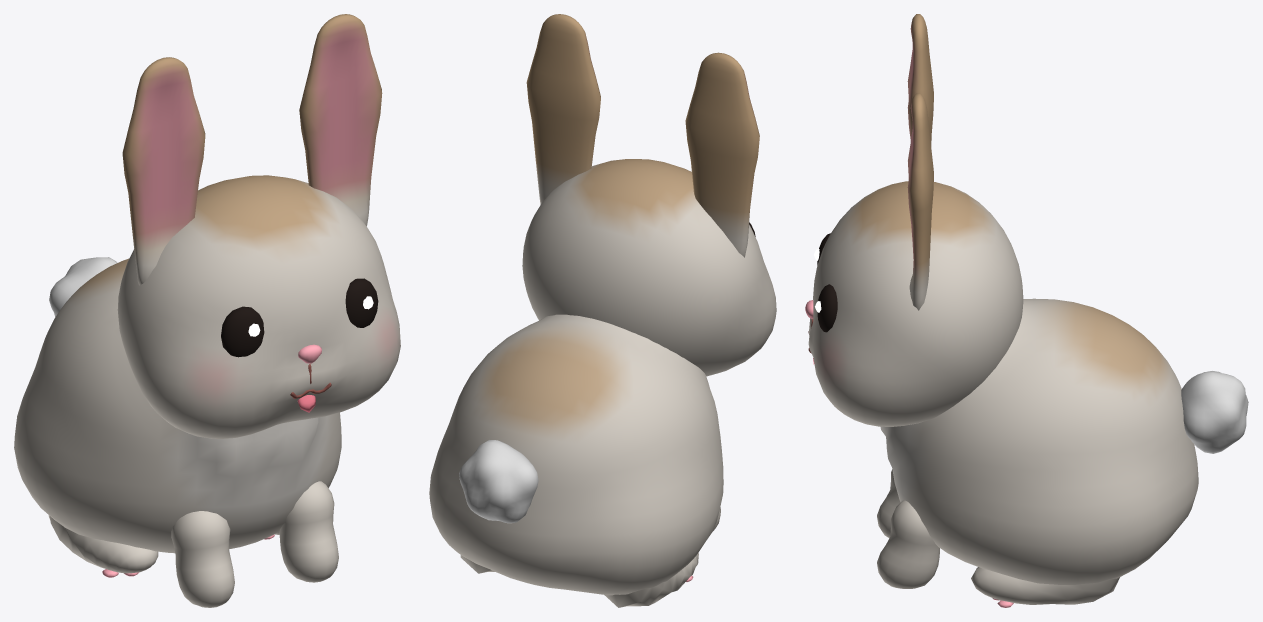
File: pet_bunny.glb
3 renders of one model, left to right at view 1: azimuth 30°, elevation 25°; view 2: azimuth 150°, elevation 25°; view 3: azimuth 270°, elevation 25°, orthographic. The views are drawn at different scales.
Visible parts, largest first — view 1: skull, torso, ear_0_mesh, ear_1_mesh, leg_1_mesh, leg_0_mesh, leg_3_mesh, eye_0_ball, tail_mesh, eye_1_ball; view 2: torso, skull, ear_0_mesh, ear_1_mesh, tail_mesh, leg_3_mesh; view 3: torso, skull, tail_mesh, ear_1_mesh, leg_0_mesh, leg_2_mesh, ear_0_mesh, eye_1_ball, leg_1_mesh.
Boxes of the visible parts, left/top/right/bottom form: skull: left=117, top=175, right=400, bottom=438; torso: left=14, top=258, right=341, bottom=553; ear_0_mesh: left=122, top=57, right=205, bottom=285; ear_1_mesh: left=299, top=14, right=382, bottom=226; leg_1_mesh: left=171, top=511, right=234, bottom=607; leg_0_mesh: left=279, top=481, right=338, bottom=582; leg_3_mesh: left=48, top=515, right=158, bottom=573; eye_0_ball: left=221, top=306, right=264, bottom=357; tail_mesh: left=49, top=257, right=117, bottom=316; eye_1_ball: left=345, top=278, right=378, bottom=327; torso: left=429, top=314, right=723, bottom=595; skull: left=522, top=159, right=776, bottom=376; ear_0_mesh: left=685, top=52, right=759, bottom=257; ear_1_mesh: left=526, top=14, right=600, bottom=204; tail_mesh: left=459, top=440, right=538, bottom=523; leg_3_mesh: left=604, top=553, right=698, bottom=607; torso: left=880, top=298, right=1198, bottom=584; skull: left=808, top=181, right=1023, bottom=426; tail_mesh: left=1181, top=371, right=1248, bottom=453; ear_1_mesh: left=907, top=93, right=933, bottom=310; leg_0_mesh: left=877, top=500, right=939, bottom=588; leg_2_mesh: left=971, top=567, right=1119, bottom=604; ear_0_mesh: left=907, top=14, right=933, bottom=146; eye_1_ball: left=817, top=284, right=837, bottom=332; leg_1_mesh: left=877, top=469, right=900, bottom=538.
Bounding box in the file's own units: 0.5411 × 1.01 × 0.8003.
